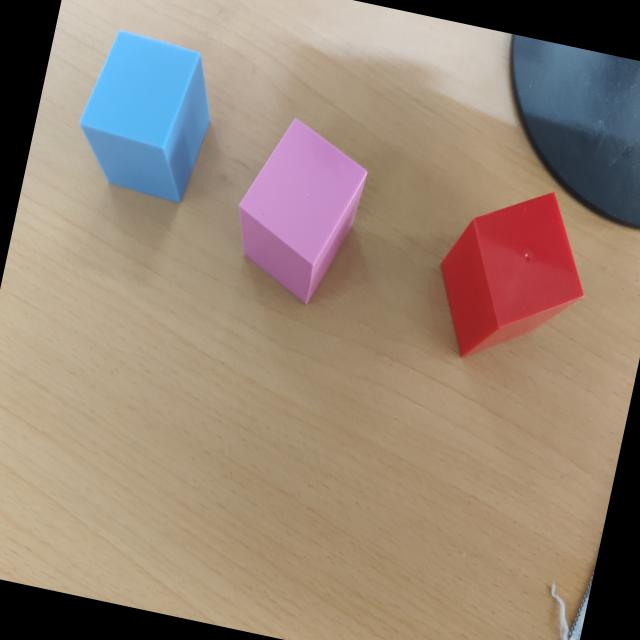blue: (77, 31, 210, 205)
pink: (237, 120, 367, 305)
red: (437, 193, 583, 359)
